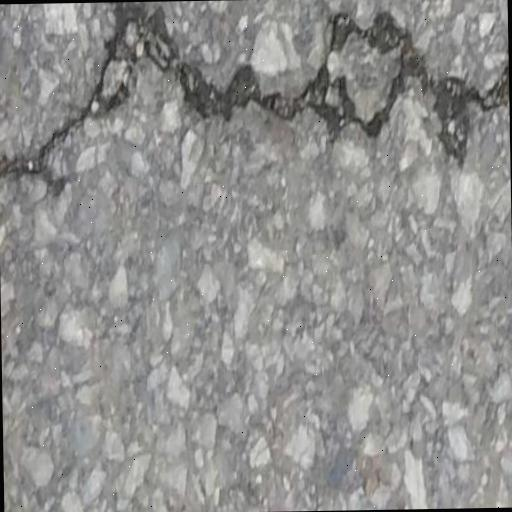spalling: (0, 2, 503, 186)
